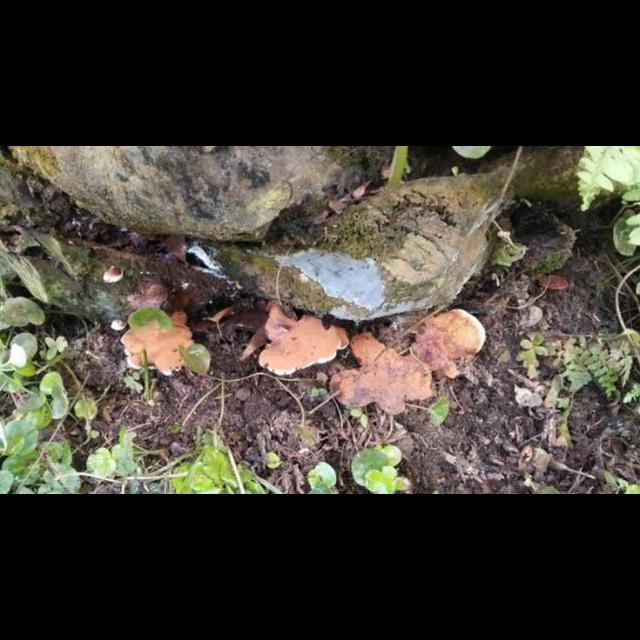ganoderma: (330, 333, 438, 417), (257, 308, 351, 378), (122, 311, 197, 378), (437, 309, 489, 357), (540, 275, 572, 294), (104, 267, 126, 285)
primordium: (110, 320, 124, 333)
